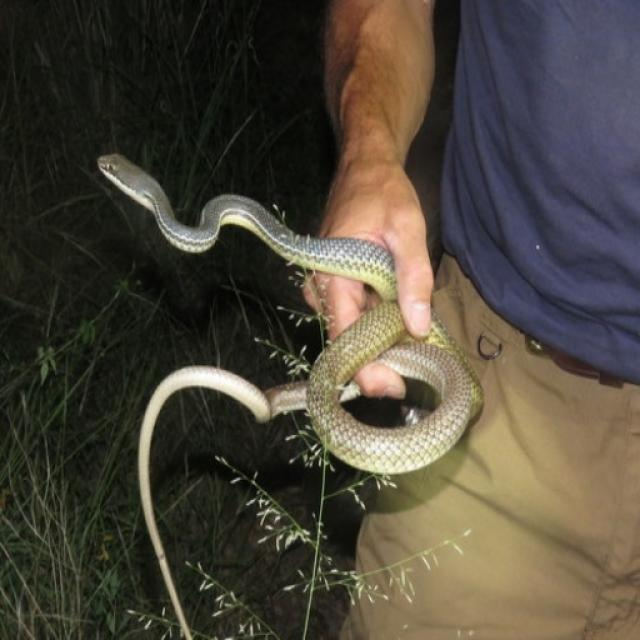snake: (85, 147, 496, 640)
